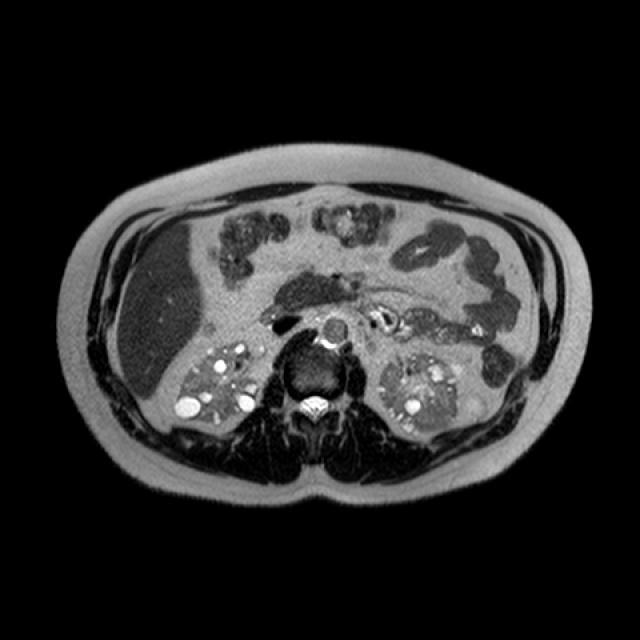sag: (170, 341, 270, 426)
sol: (376, 348, 467, 437)
